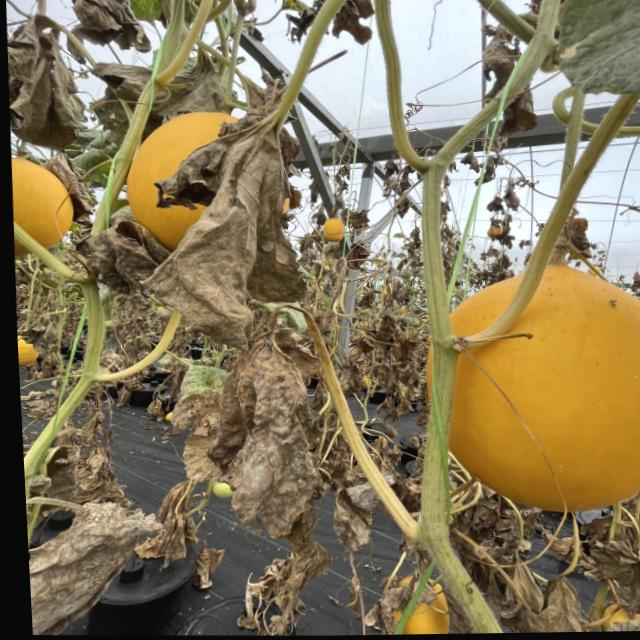alternaria leaf blight: (538, 0, 640, 100)
bacterial wilt: (135, 121, 311, 323), (178, 334, 331, 542), (26, 498, 181, 631), (4, 14, 83, 138), (241, 546, 326, 630), (83, 226, 165, 282), (62, 0, 155, 41), (598, 527, 640, 599), (521, 581, 578, 633), (498, 561, 538, 604)
